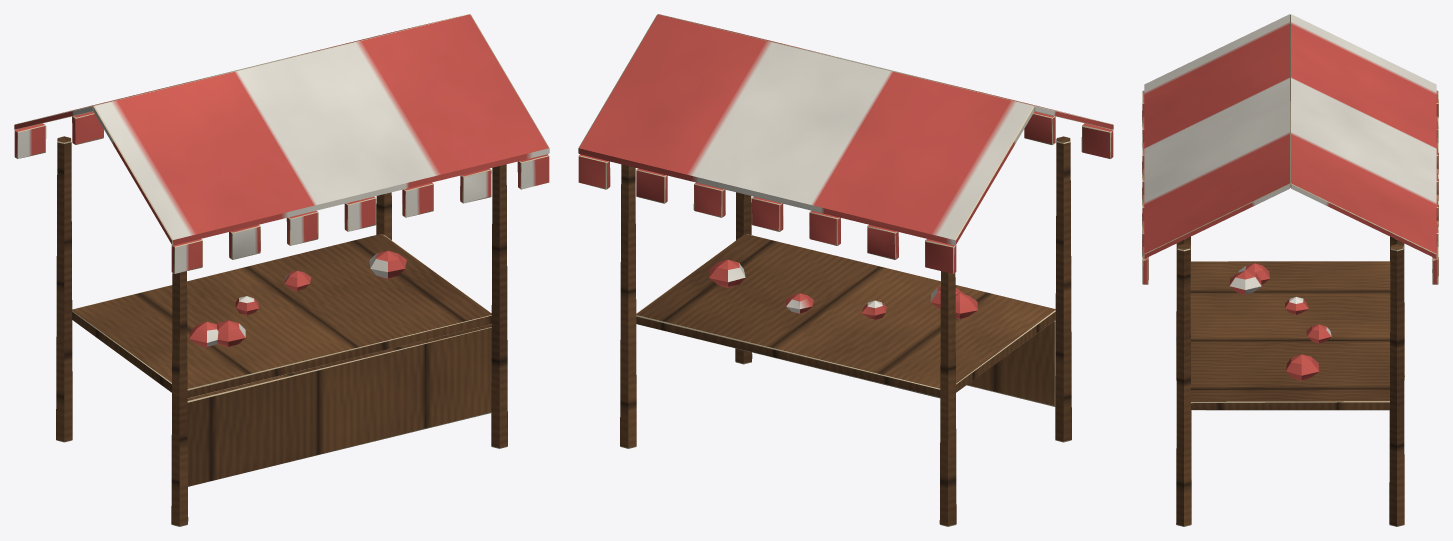
Rendered from Env_Market_Stall_LOD1.fbx.
3 views of the same model, side by side, from view 1: azimuth 30°, elevation 25°; view 2: azimuth 150°, elevation 25°; view 3: azimuth 270°, elevation 25° (orthographic). The views are drawn at different scales.
Visible parts, largest first — view 1: Env_Market_Stall_LOD1; view 2: Env_Market_Stall_LOD1; view 3: Env_Market_Stall_LOD1.
Boxes of the visible parts, <box> form: Env_Market_Stall_LOD1: <box>14,14,549,526</box>; Env_Market_Stall_LOD1: <box>578,14,1113,526</box>; Env_Market_Stall_LOD1: <box>1142,14,1438,526</box>.
Size of the model in its own units: 284 by 209 by 274.
